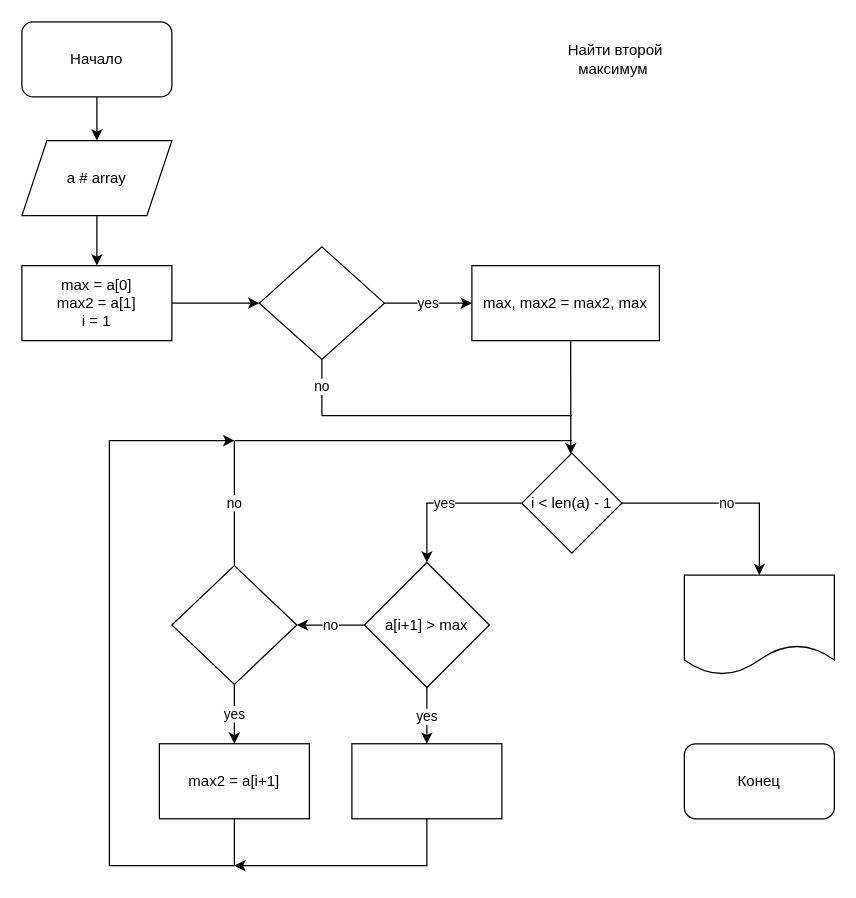
This 856x898 diagram has some shape labels left out. Here are the shapes that lost their labels. From the top down, the box of each, then its label:
(258, 246, 384, 359): max2 > max
(171, 564, 297, 684): a[i+1] > max2
(683, 574, 834, 675): max2
(351, 742, 502, 819): max = a[i+1]
